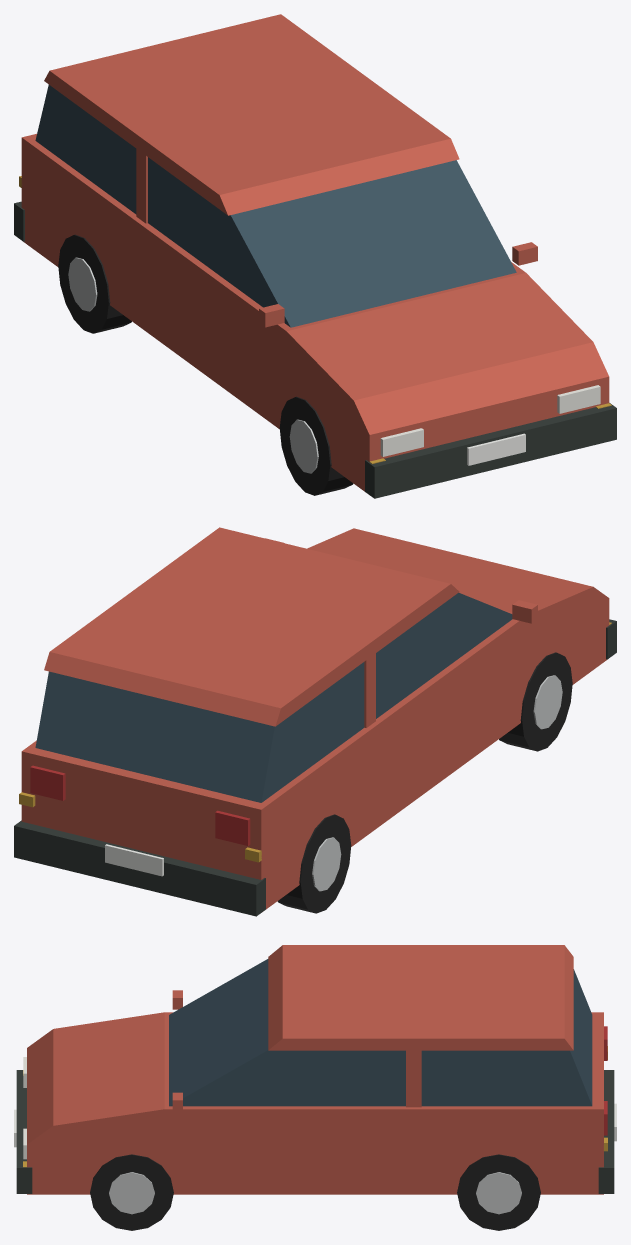
The model's file is car.glb.
The picture shows the model from 3 angles, top to bottom: view 1: azimuth 30°, elevation 25°; view 2: azimuth 150°, elevation 25°; view 3: azimuth 270°, elevation 25°; orthographic projection. The views are drawn at different scales.
Parts seen in each view (by area): view 1: body, glass, trim, headlight; view 2: body, glass, trim, brake_light; view 3: body, glass, trim.
Part boxes in pixels (x1=…): body: x1=21, y1=14, x2=609, y2=491; glass: x1=35, y1=84, x2=516, y2=327; trim: x1=14, y1=201, x2=616, y2=498; headlight: x1=380, y1=385, x2=600, y2=456; body: x1=21, y1=527, x2=609, y2=909; glass: x1=35, y1=592, x2=512, y2=802; trim: x1=14, y1=619, x2=616, y2=916; brake_light: x1=30, y1=765, x2=250, y2=845; body: x1=27, y1=945, x2=603, y2=1194; glass: x1=169, y1=959, x2=592, y2=1106; trim: x1=14, y1=1070, x2=616, y2=1230.
Bounding box in the file's own units: 1.99 × 1.6 × 4.6.
